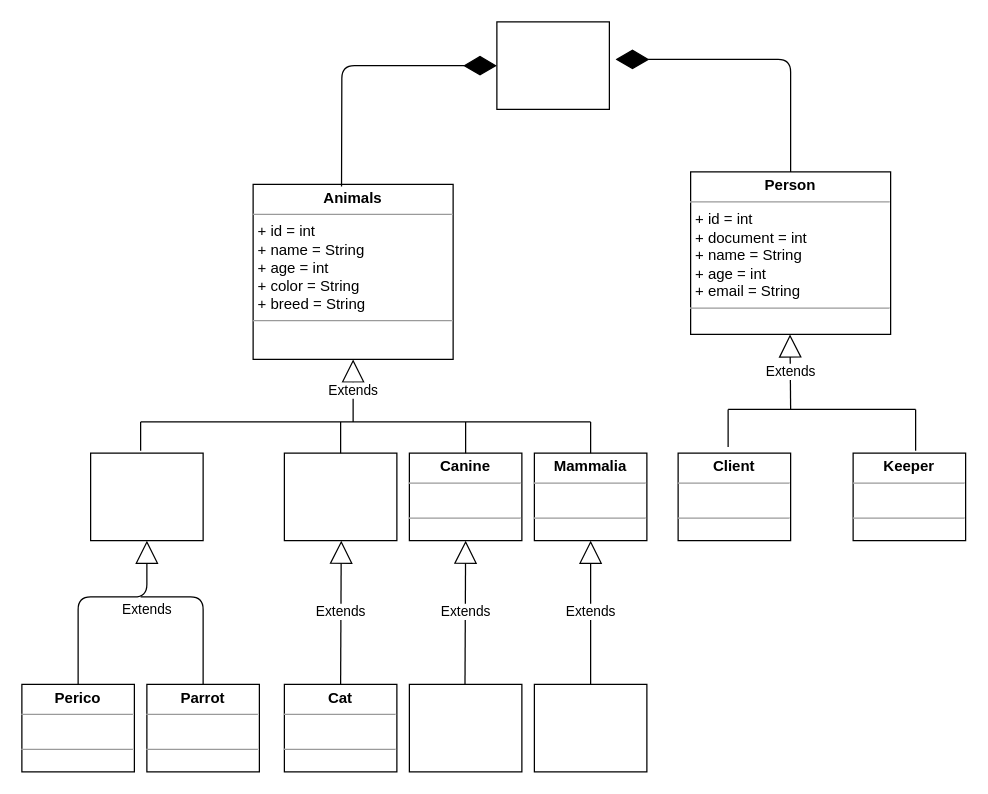
The diagram is 988 pixels wide and 794 high, and some of its shapes have lost their labels. The box of each missing label's shape, as (x1, y1, x2, y2) in pixels:
Adoption + id = int: (496, 21, 609, 109)
Bird: (89, 452, 203, 541)
Dog: (408, 683, 522, 772)
Feline: (283, 452, 397, 541)
Hamster: (533, 683, 647, 772)
